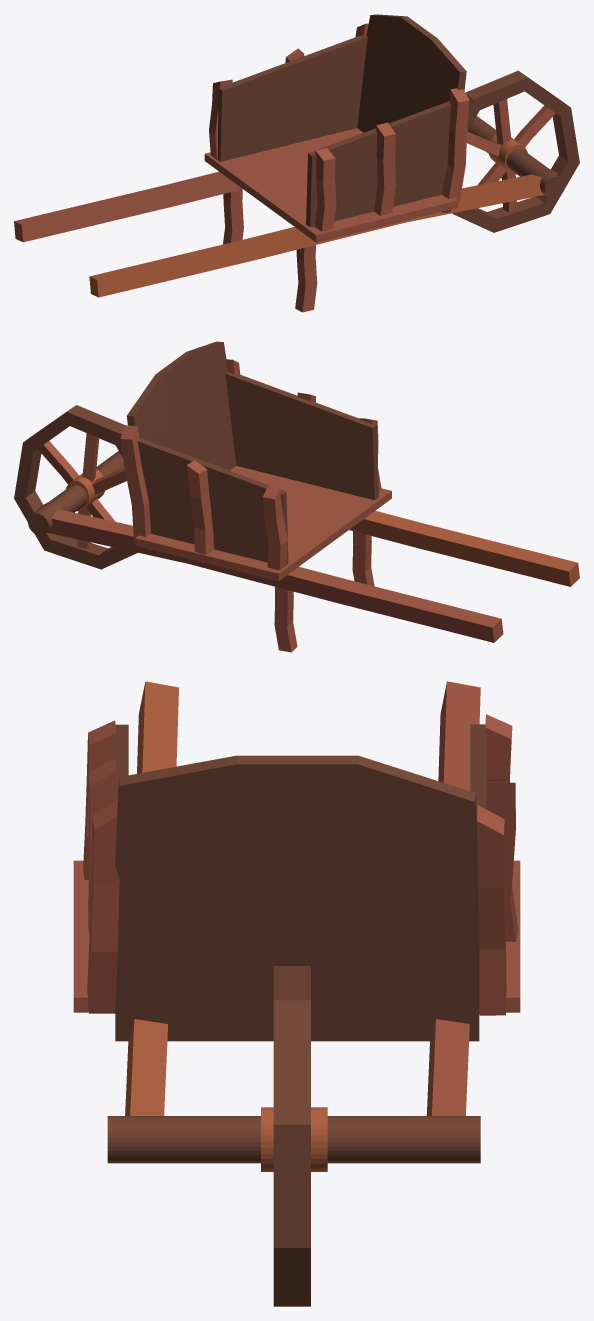
File: wheelbarrow.fbx
3 renders of one model, top to bottom at view 1: azimuth 30°, elevation 25°; view 2: azimuth 150°, elevation 25°; view 3: azimuth 270°, elevation 25°, orthographic. The views are drawn at different scales.
Parts seen in each view (by area): view 1: Plane.004, Plane.003, Plane.001, Plane.002, Cube.011, Plane, Cube.015, Cube.020, Cylinder, Cube.018, Cube.016, Cube.022 (+6 smaller); view 2: Plane.003, Plane.004, Plane.001, Cube.015, Plane.002, Cube.011, Plane, Cube.021, Cube.019, Cylinder, Cube.017, Cube.023 (+5 smaller); view 3: Plane.001, Cylinder, Plane, Cube.015, Cube.011, Cube.020, Cube.021, Plane.002, Cube.019, Cylinder.001, Cube.017, Cube.018 (+3 smaller).
Boxes of the visible parts, x1,y1,x2,y2 form: Plane.004: (217,35,367,161); Plane.003: (306,101,451,227); Plane.001: (357,14,466,212); Plane.002: (204,128,458,242); Cube.011: (89,174,544,297); Plane: (452,70,579,232); Cube.015: (14,171,242,242); Cube.020: (441,88,469,201); Cylinder: (468,116,565,198); Cube.018: (374,122,395,215); Cube.016: (314,148,336,231); Cube.022: (295,245,317,312); Plane.003: (225,372,378,500); Plane.004: (137,437,288,564); Plane.001: (126,341,236,551); Cube.015: (48,509,503,642); Plane.002: (135,466,391,581); Cube.011: (349,511,579,586); Plane: (14,405,137,569); Cube.021: (120,425,150,540); Cube.019: (186,460,213,554); Cylinder: (28,451,124,535); Cube.017: (262,485,287,570); Cube.023: (274,587,297,652); Plane.001: (115,755,479,1041); Cylinder: (107,1116,480,1163); Plane: (273,966,310,1306); Cube.015: (426,681,480,1115); Cube.011: (125,681,178,1115); Cube.020: (87,799,119,1013); Cube.021: (477,805,506,1015); Plane.002: (73,860,520,1012); Cube.019: (486,782,518,941); Cylinder.001: (261,1107,327,1171); Cube.017: (485,714,512,796); Cube.018: (88,758,116,934).
Size of the model in its own units: 262 by 106 by 98.52.
